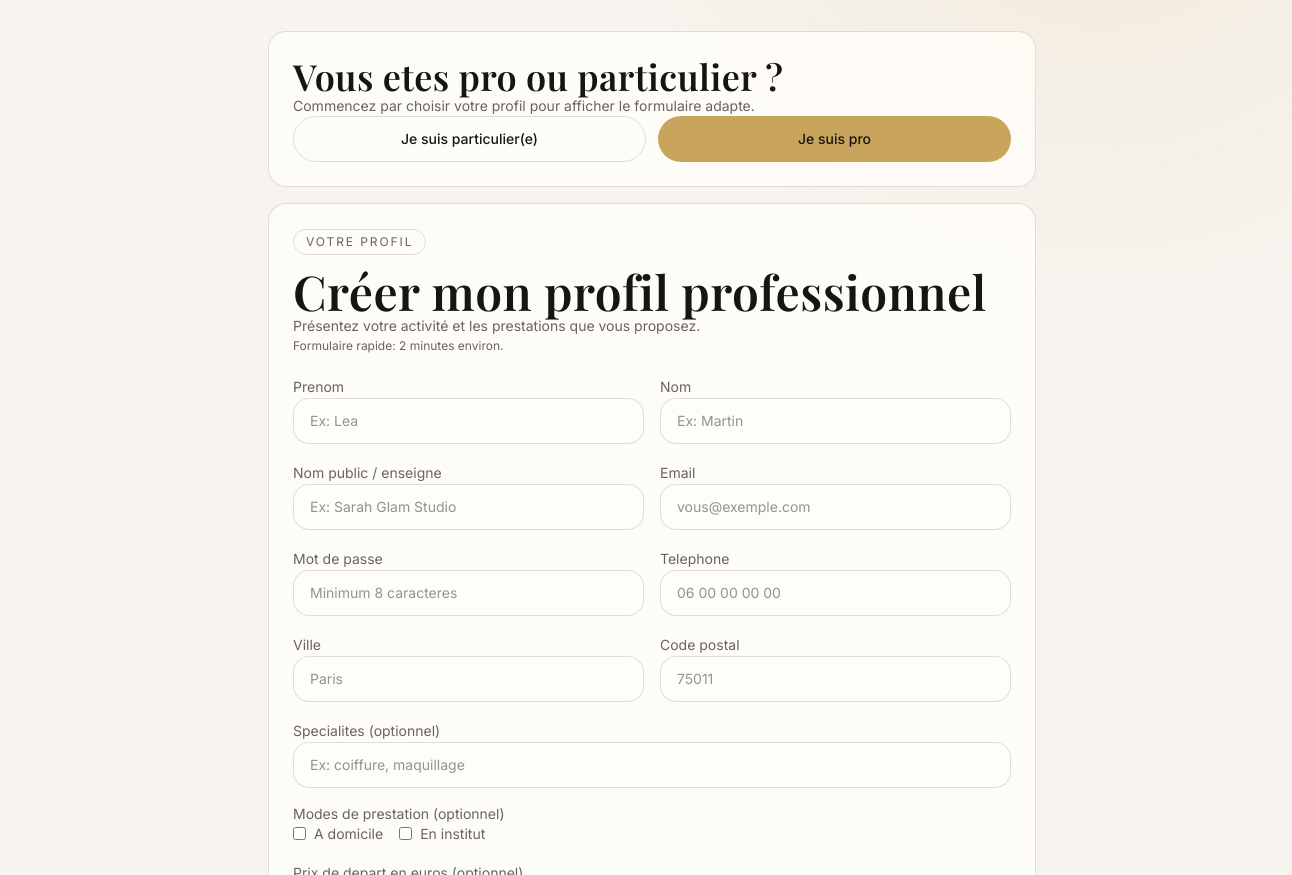
Test: PreSignupPage › preselects provider role from query string and updates query on role switch
Expected: the heading "Créer mon profil professionnel" is shown, [293,267,1011,315]
Click the button "Je suis particulier(e)": [470, 139] box [293,116,646,162]
(page scrolled)
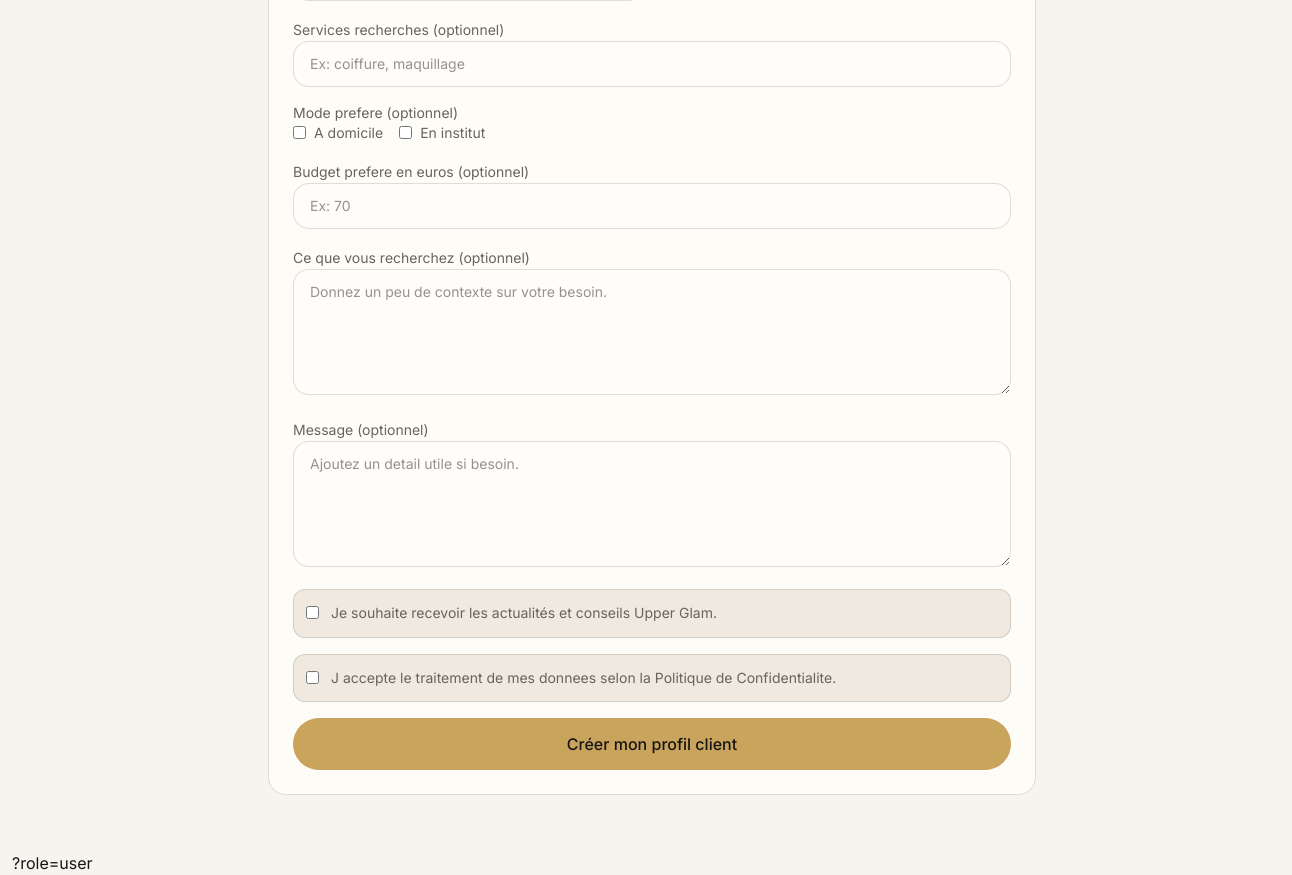
Expected: the text with test id "location" shows "role=user", [12,853,93,873]
